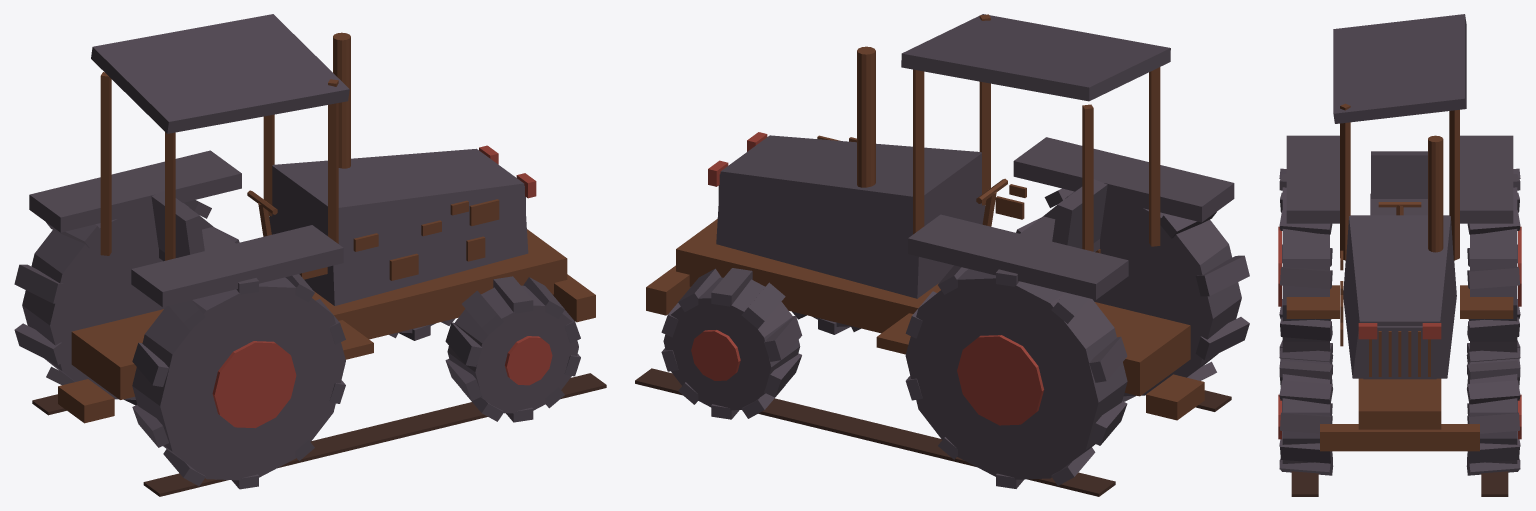
Rendered from prop.farm-tractor.burned.glb.
3 views of the same model, side by side, from view 1: azimuth 30°, elevation 25°; view 2: azimuth 150°, elevation 25°; view 3: azimuth 270°, elevation 25° (orthographic). The views are drawn at different scales.
Visible parts, largest first — view 1: body; view 2: body; view 3: body.
Boxes of the visible parts, bbox=[...] form: body: bbox=[14, 14, 606, 496]; body: bbox=[635, 14, 1249, 496]; body: bbox=[1278, 14, 1521, 496].
Bounding box in the file's own units: 3.96 × 2.96 × 2.05.
